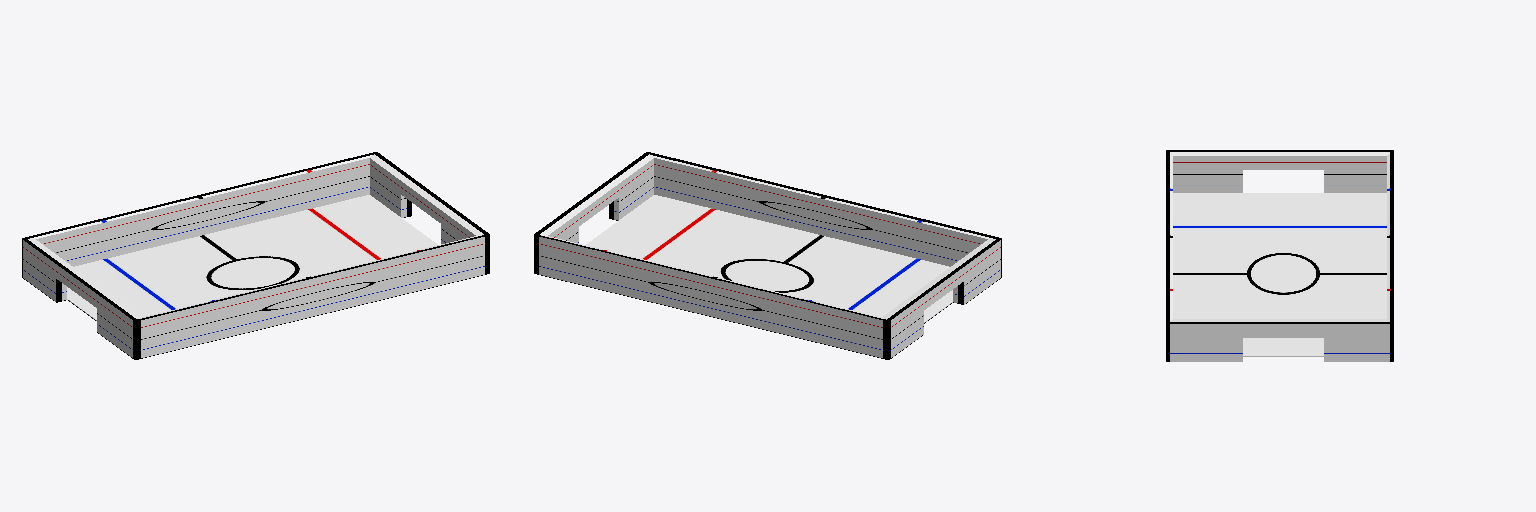
3 views of the same model, side by side, from view 1: azimuth 30°, elevation 25°; view 2: azimuth 150°, elevation 25°; view 3: azimuth 270°, elevation 25° (orthographic).
Parts seen in each view (by area): view 1: Cube; view 2: Cube; view 3: Cube.
Part boxes in pixels (left/top/right/bottom): Cube: left=22, top=152, right=489, bottom=359; Cube: left=534, top=152, right=1001, bottom=359; Cube: left=1166, top=150, right=1393, bottom=361.
Size of the model in its own units: 19.06 by 2 by 10.55.
1 materials, 1 textured.